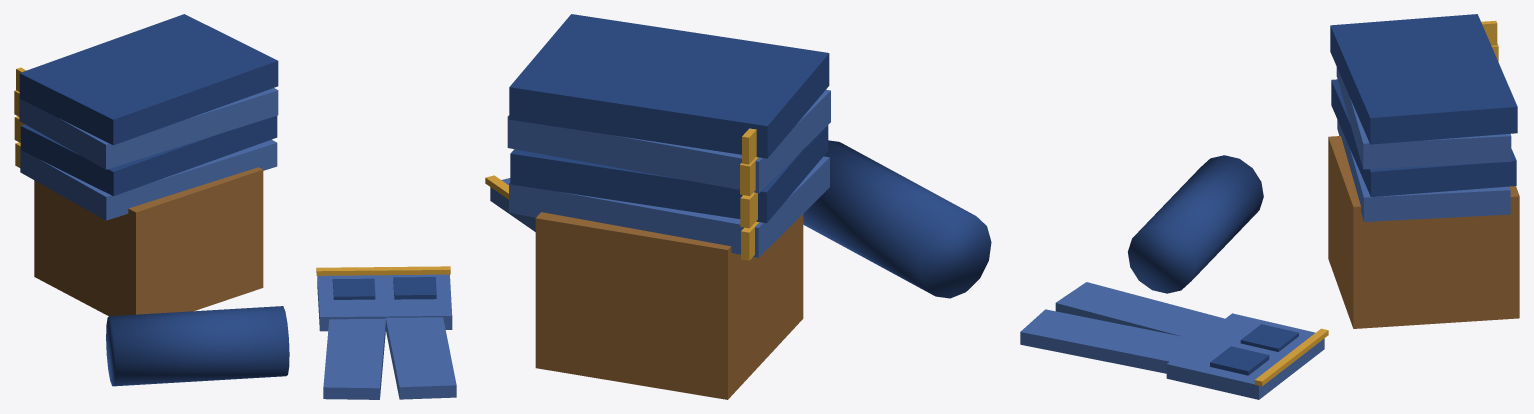
Rendered from resource_jeans.fbx.
3 views of the same model, side by side, from view 1: azimuth 30°, elevation 25°; view 2: azimuth 150°, elevation 25°; view 3: azimuth 270°, elevation 25° (orthographic). The views are drawn at different scales.
Visible parts, largest first — view 1: resource_jeans_denim_03, resource_jeans_denim2_01, resource_jeans_wood#9a6a38_00, resource_jeans_stitch_02; view 2: resource_jeans_denim_03, resource_jeans_wood#9a6a38_00, resource_jeans_denim2_01, resource_jeans_stitch_02; view 3: resource_jeans_denim_03, resource_jeans_denim2_01, resource_jeans_wood#9a6a38_00, resource_jeans_stitch_02.
Boxes of the visible parts, <box> form: resource_jeans_denim_03: <box>19,14,436,386</box>; resource_jeans_denim2_01: <box>19,88,456,399</box>; resource_jeans_wood#9a6a38_00: <box>34,167,263,316</box>; resource_jeans_stitch_02: <box>14,67,450,275</box>; resource_jeans_denim_03: <box>509,14,991,298</box>; resource_jeans_wood#9a6a38_00: <box>535,212,803,399</box>; resource_jeans_denim2_01: <box>490,89,830,257</box>; resource_jeans_stitch_02: <box>485,128,759,260</box>; resource_jeans_denim_03: <box>1128,14,1517,375</box>; resource_jeans_denim2_01: <box>1020,67,1511,399</box>; resource_jeans_wood#9a6a38_00: <box>1328,136,1519,328</box>; resource_jeans_stitch_02: <box>1254,20,1498,386</box>.
Size of the model in its own units: 83.4 by 46.81 by 95.22.
